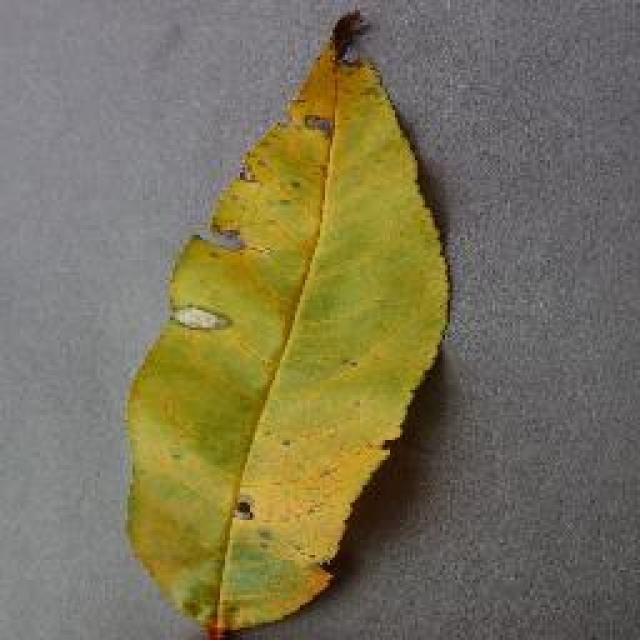Peach_Bacterial_Spot: (203, 65, 367, 640)
